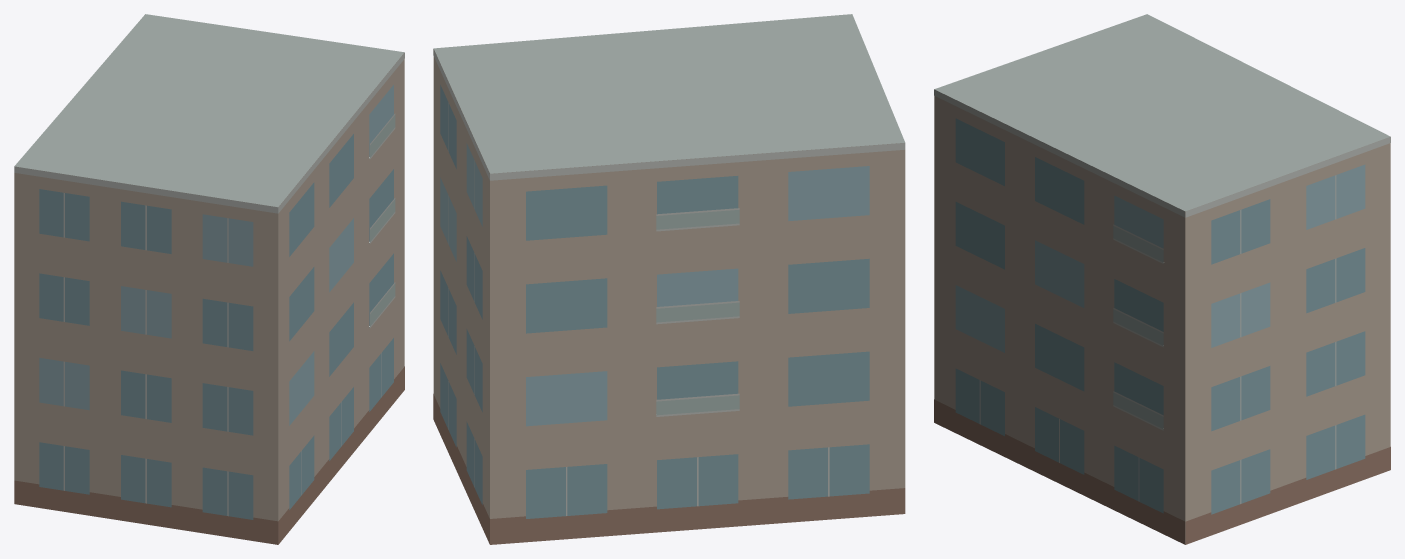
Rendered from survey-upis-33045779.glb.
3 views of the same model, side by side, from view 1: azimuth 30°, elevation 25°; view 2: azimuth 150°, elevation 25°; view 3: azimuth 270°, elevation 25° (orthographic). The views are drawn at different scales.
Parts seen in each view (by area): view 1: survey-upis-33045779.tmp; view 2: survey-upis-33045779.tmp; view 3: survey-upis-33045779.tmp.
Part boxes in pixels (box(x1,y1,x2,y2)): survey-upis-33045779.tmp: box(14, 14, 404, 544); survey-upis-33045779.tmp: box(433, 14, 905, 544); survey-upis-33045779.tmp: box(934, 14, 1390, 544).
Bounding box in the file's own units: 16.4 × 12.9 × 16.02.
